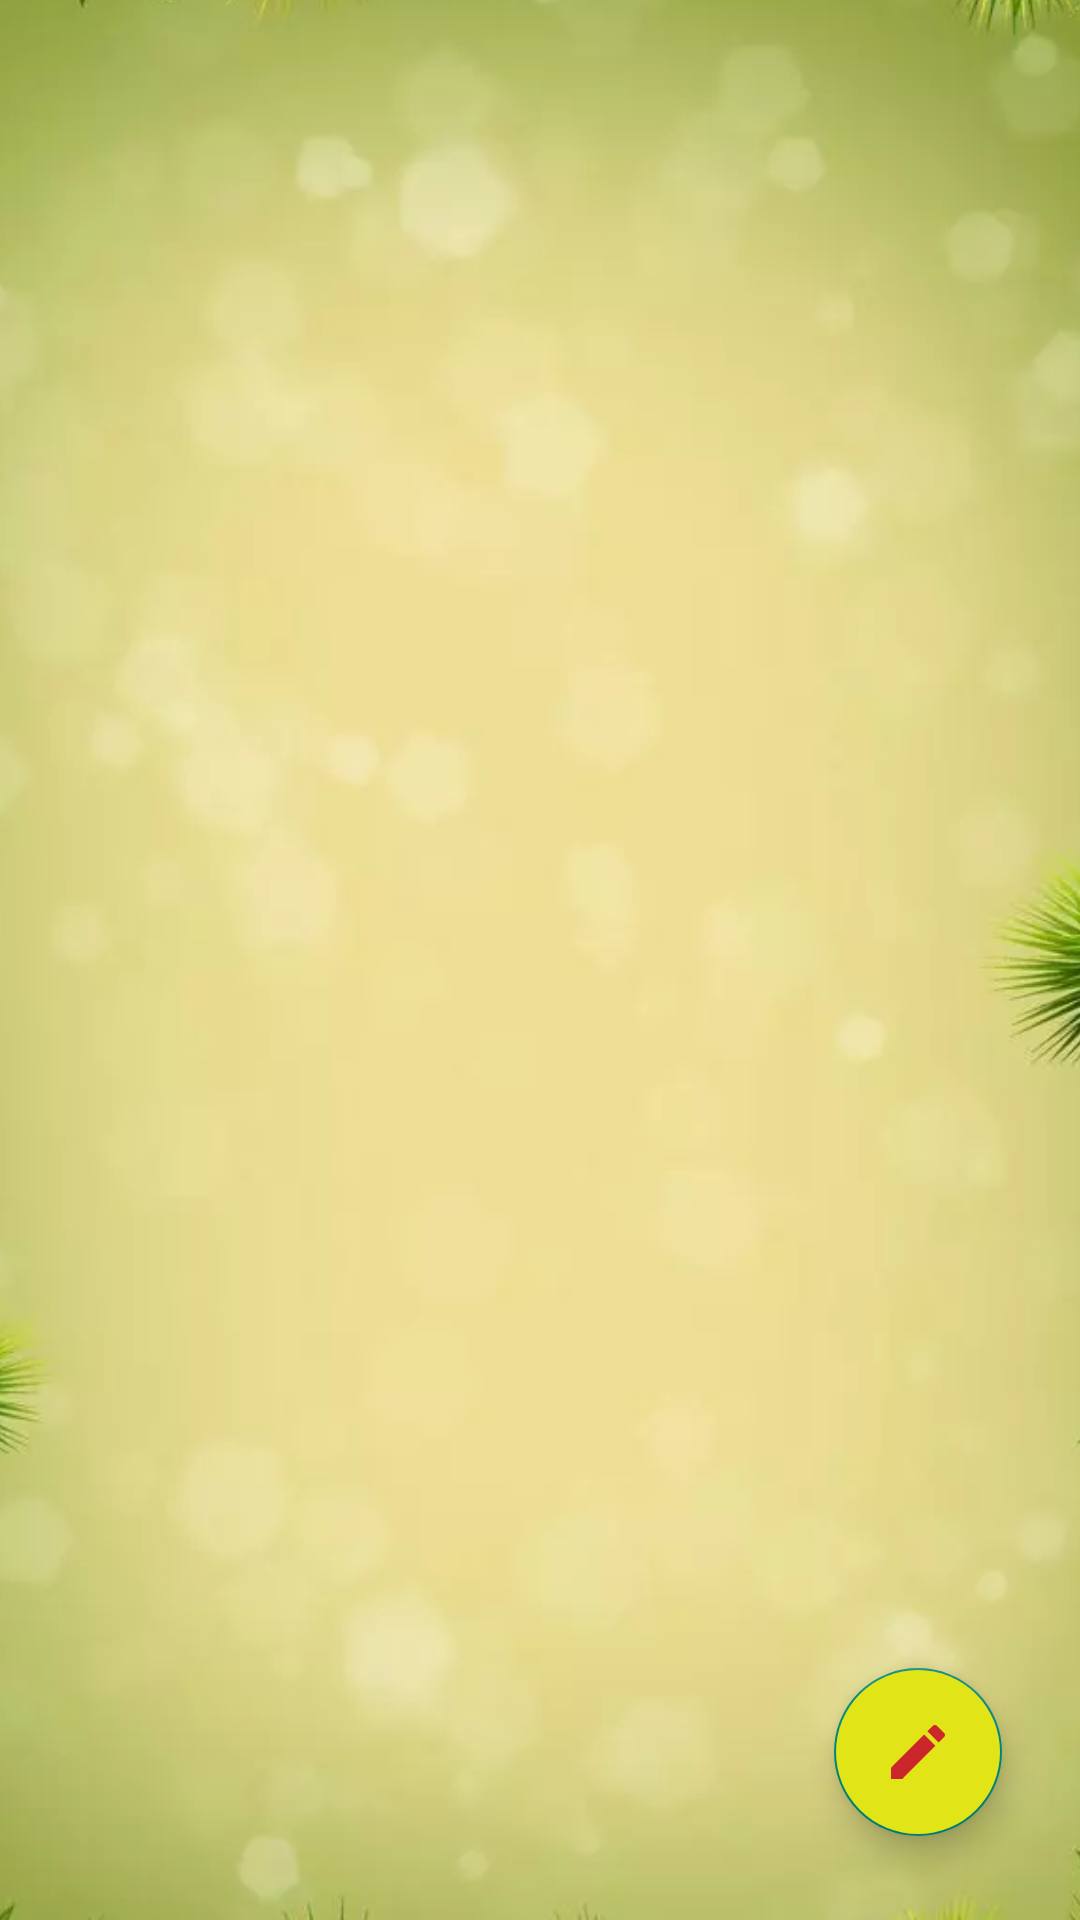

Where to tap for icons on this 1080x1920 app screen, as (x=x, y=y):
create: (x=918, y=1752)
